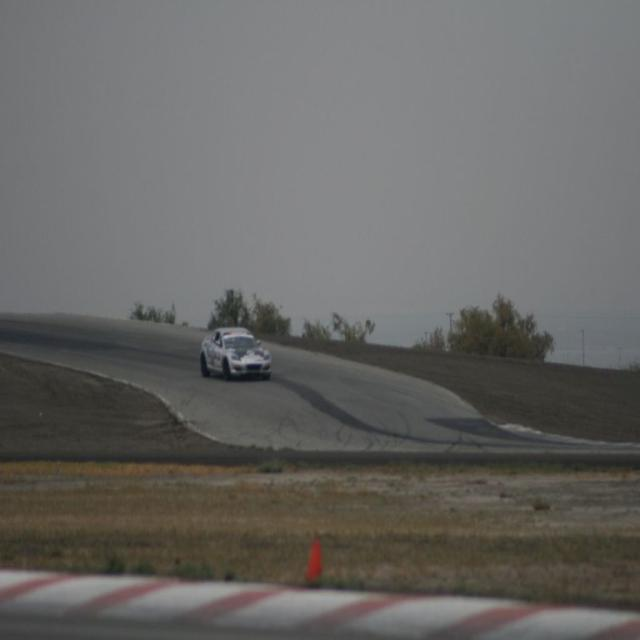car: (198, 323, 267, 382)
